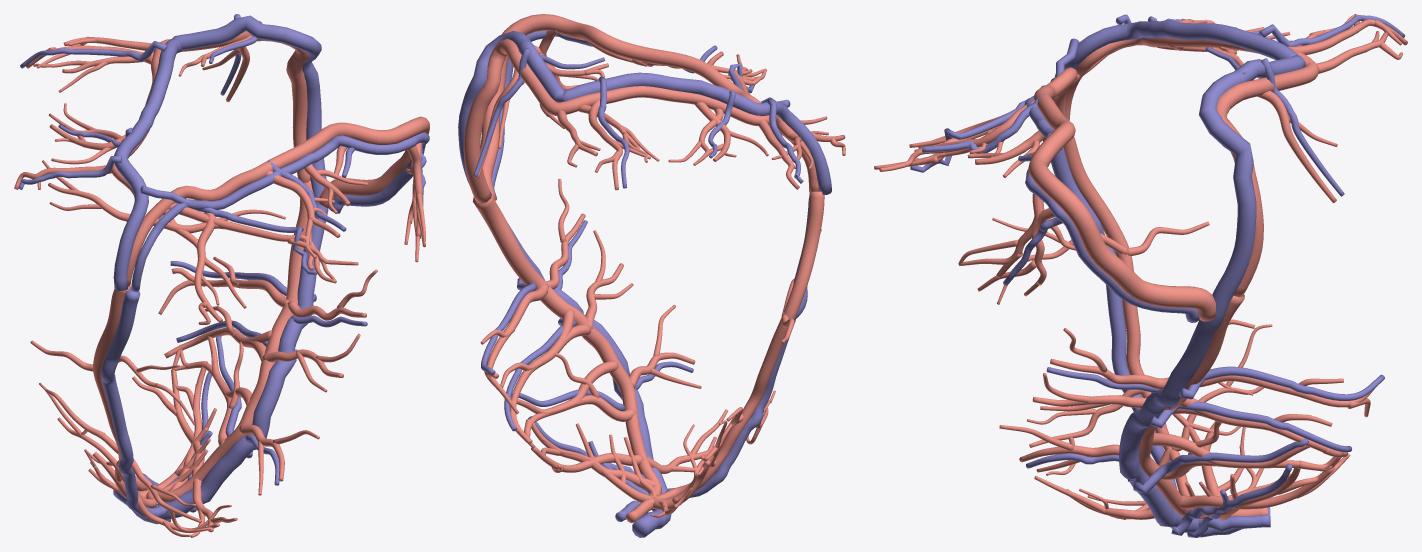
Rendered from vessels_35.glb.
3 renders of one model, left to right at view 1: azimuth 30°, elevation 25°; view 2: azimuth 150°, elevation 25°; view 3: azimuth 270°, elevation 25°, orthographic. The views are drawn at different scales.
Parts seen in each view (by area): view 1: Renderer Node; view 2: Renderer Node; view 3: Renderer Node.
Part boxes in pixels (box(x1,y1,x2,y2)): Renderer Node: box(14, 14, 429, 537); Renderer Node: box(458, 14, 845, 537); Renderer Node: box(874, 14, 1407, 537).
Size of the model in its own units: 89.91 by 111 by 99.4.
